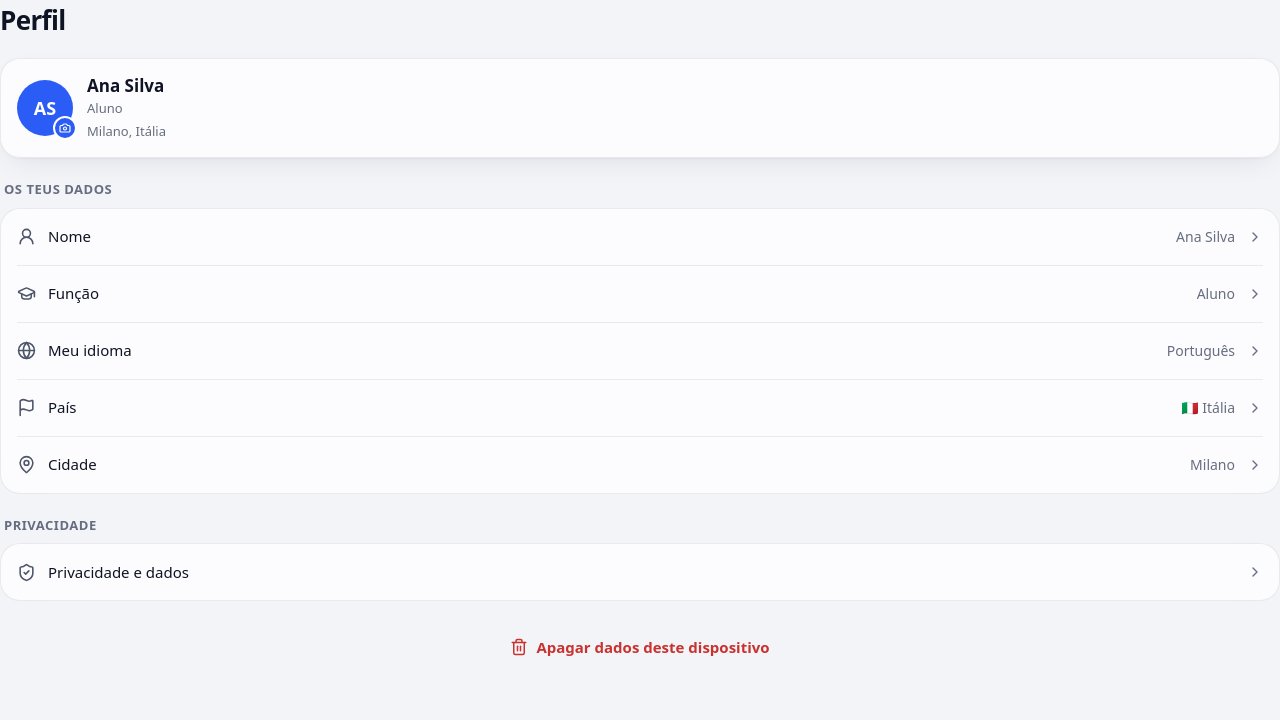
ProfilePage › the photo cannot be changed until the chat is connected
This screenshot has width=1280, height=720.
Click the button with aria-label "Adicionar foto" at (45, 108), box [17, 80, 73, 136]
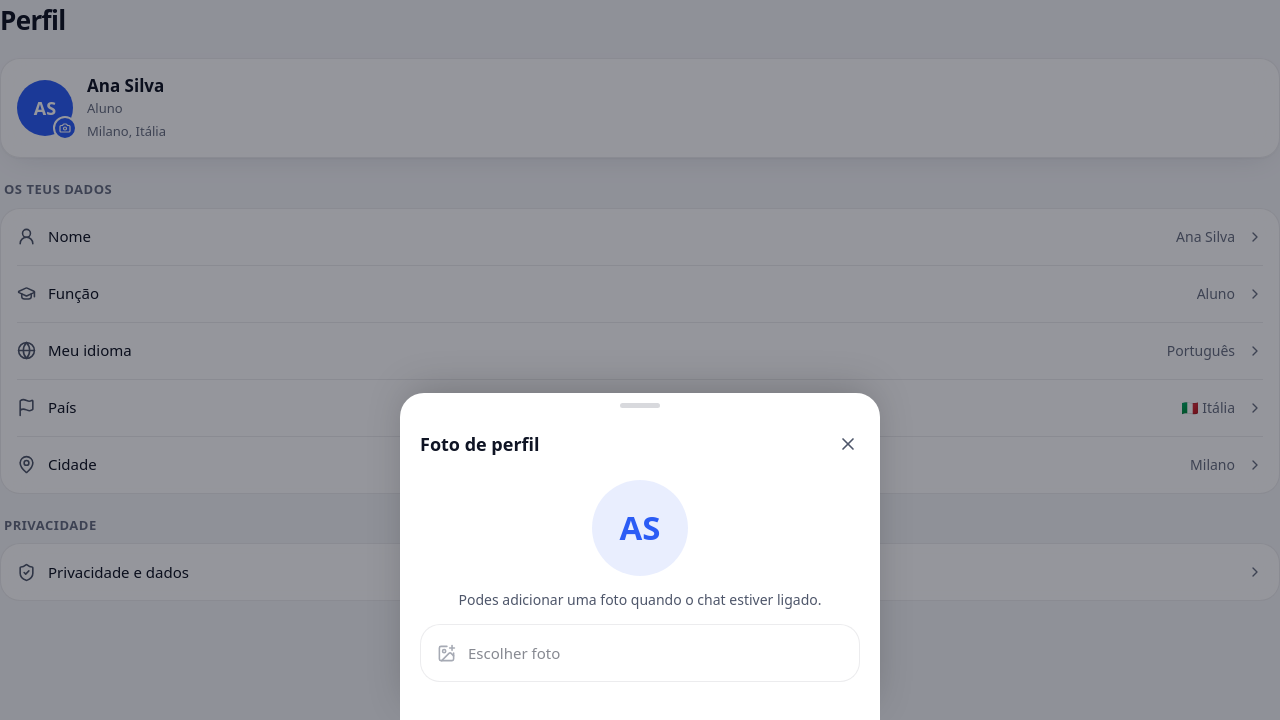
Expected: the text "Podes adicionar uma foto quando o chat estiver ligado." is shown, [458, 590, 822, 609]
Expected: the button "Escolher foto" is disabled, [421, 625, 859, 681]
